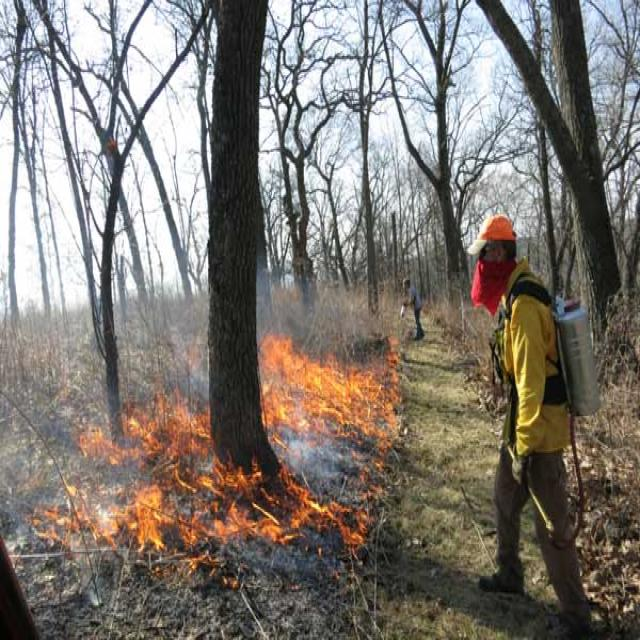fire: (264, 335, 384, 442), (134, 466, 286, 549), (120, 397, 208, 449)
